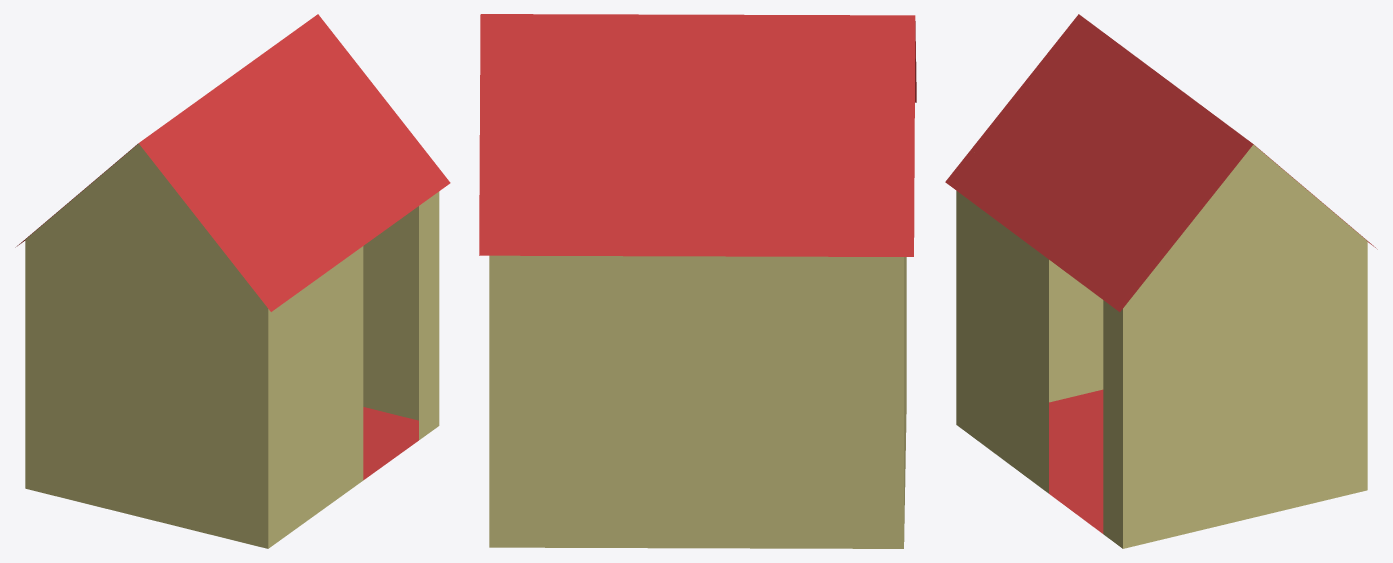
3 views of the same model, side by side, from view 1: azimuth 30°, elevation 25°; view 2: azimuth 150°, elevation 25°; view 3: azimuth 270°, elevation 25° (orthographic). The views are drawn at different scales.
Size of the model in its own units: 13.89 by 13.24 by 12.71.
